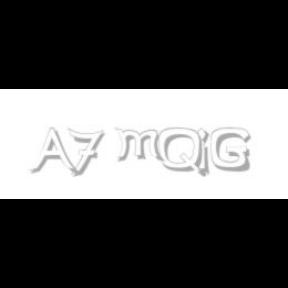7: (68, 128, 104, 178)
A: (29, 128, 77, 176)
G: (210, 128, 250, 172)
Q: (159, 128, 205, 178)
i: (197, 128, 213, 176)
m: (114, 128, 166, 162)
